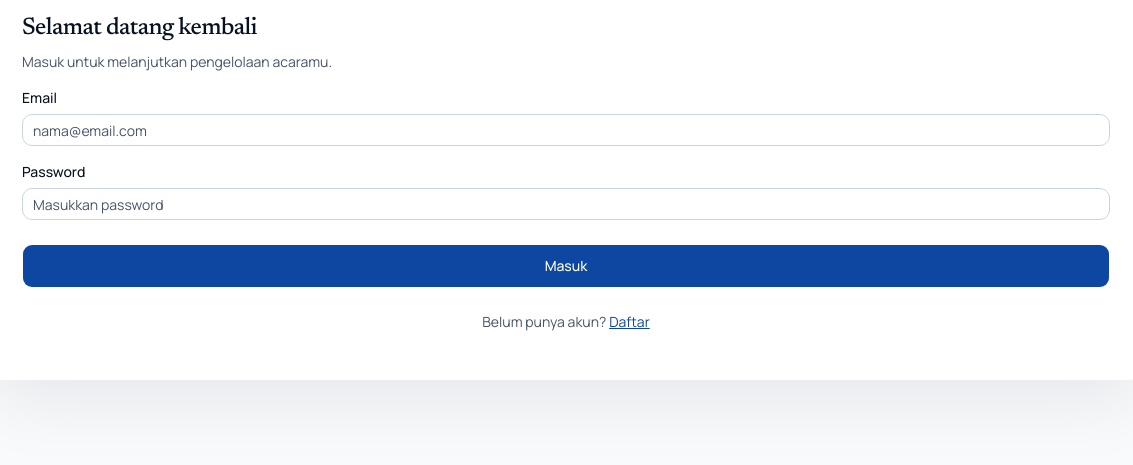
LoginForm › shows an error message when login fails
Type "rian@example.com" into the field labelled "Email" at coordinates (566, 130), box [22,114,1110,146]
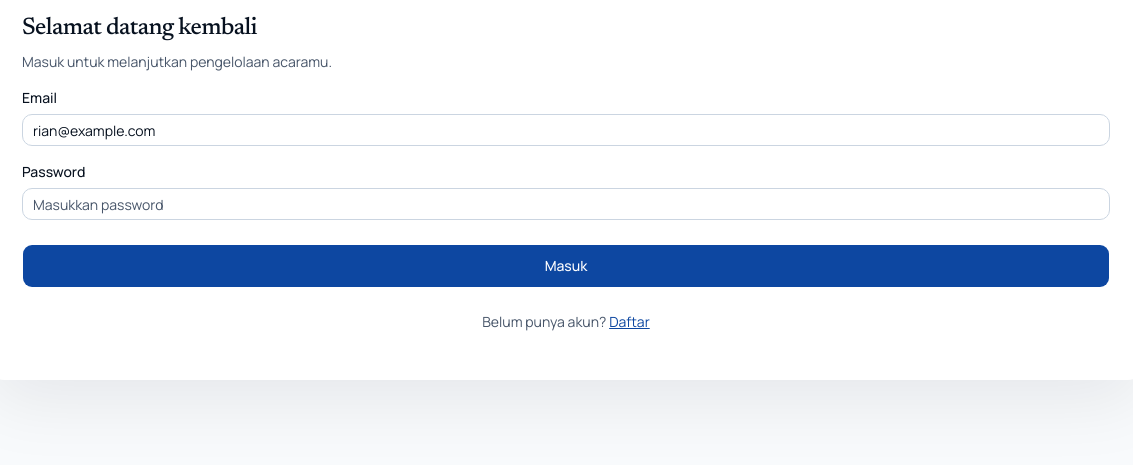
Type "wrongpass" into the password field labelled "Password" at coordinates (566, 204), box [22,188,1110,220]
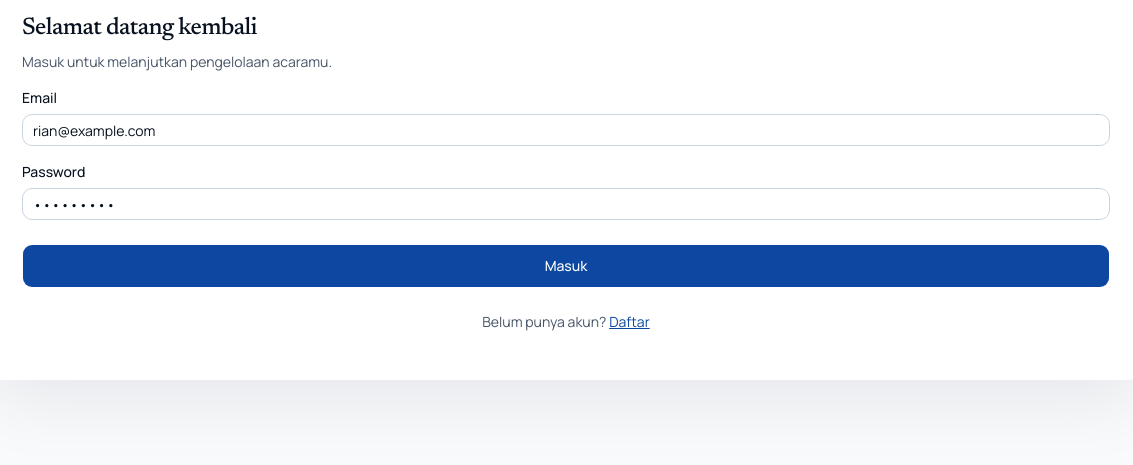
Click the button "Masuk" at coordinates (566, 266), box [22,244,1110,288]
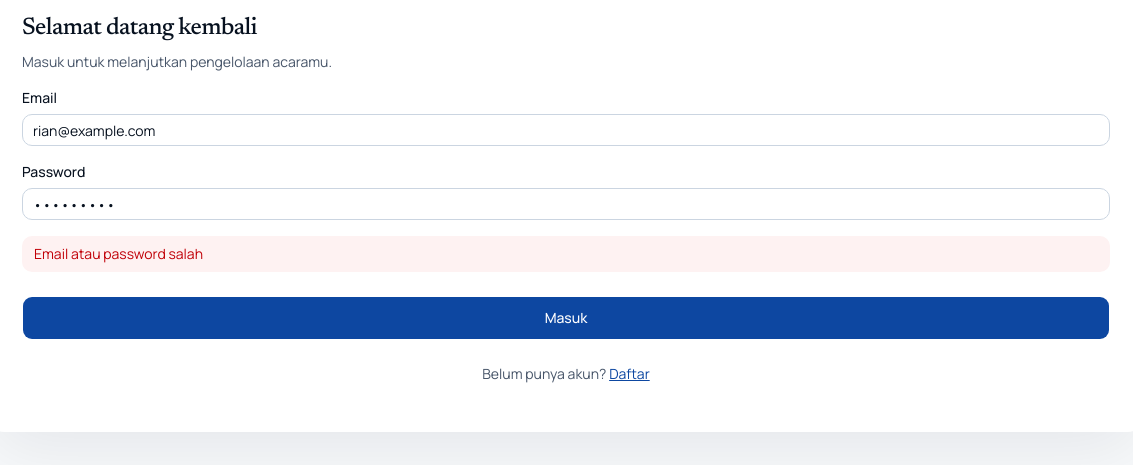
Result: the text "Email atau password salah" is shown at [22,236,1110,272]
